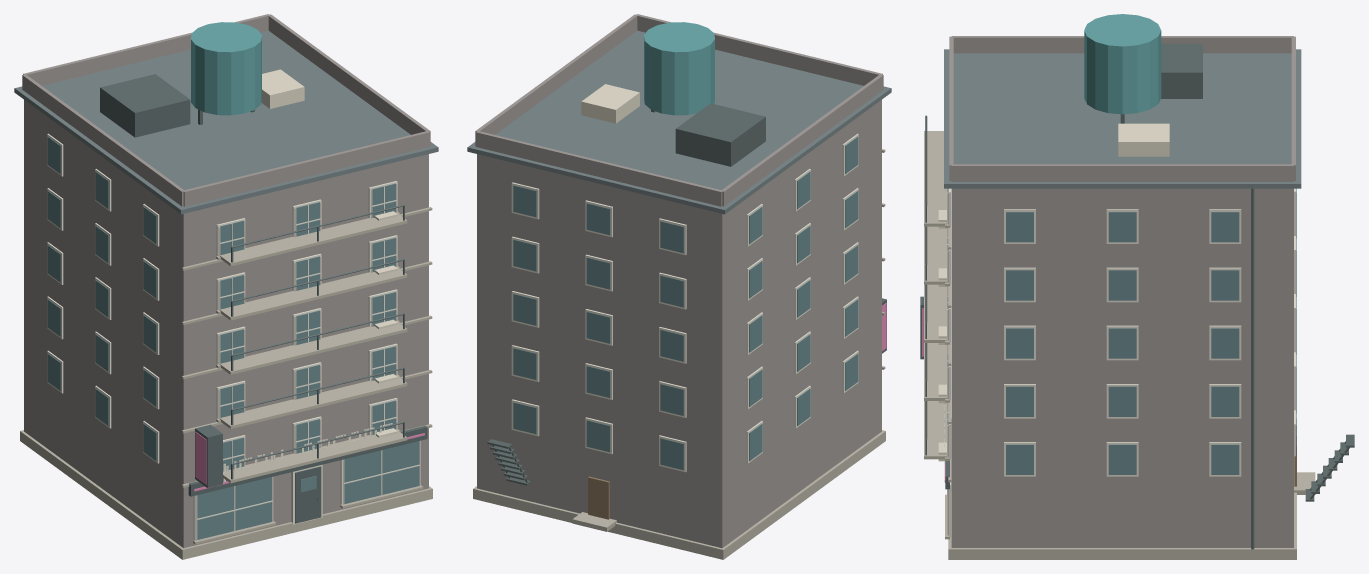
3 views of the same model, side by side, from view 1: azimuth 30°, elevation 25°; view 2: azimuth 150°, elevation 25°; view 3: azimuth 270°, elevation 25° (orthographic). The views are drawn at different scales.
Bounding box in the file's own units: 14.9 × 23.94 × 20.3.
